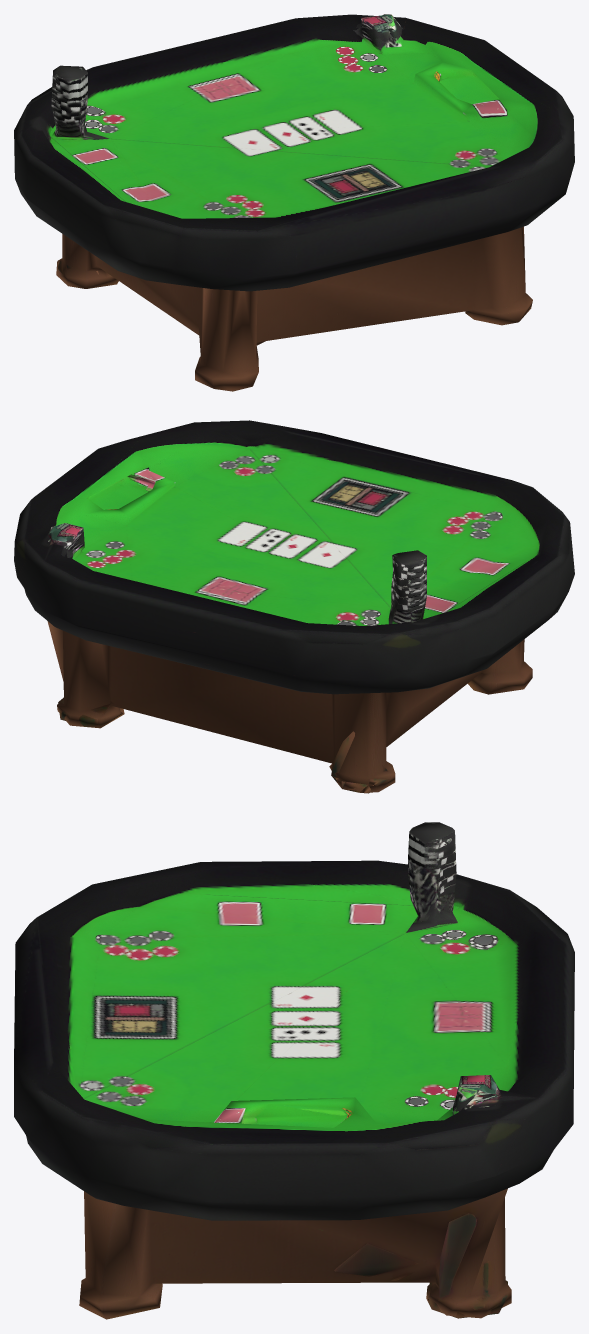
Rendered from poker-table.glb.
3 renders of one model, top to bottom at view 1: azimuth 30°, elevation 25°; view 2: azimuth 150°, elevation 25°; view 3: azimuth 270°, elevation 25°, orthographic. The views are drawn at different scales.
Size of the model in its own units: 1.91 by 0.8712 by 1.56.
1 material, 1 textured.
